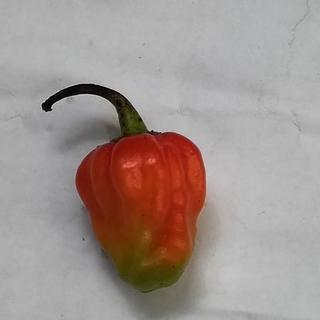Grade-A: (71, 127, 211, 296)
